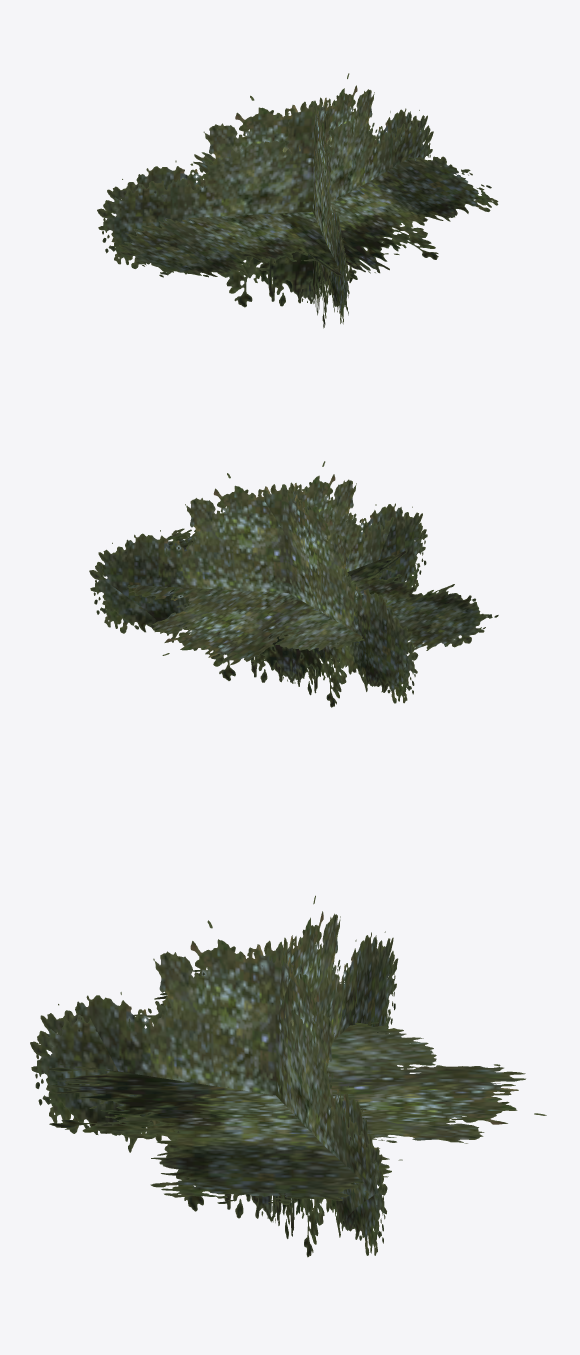
File: core_shrb_perzizole_l2.fbx
3 renders of one model, top to bottom at view 1: azimuth 30°, elevation 25°; view 2: azimuth 150°, elevation 25°; view 3: azimuth 270°, elevation 25°, orthographic. The views are drawn at different scales.
Parts seen in each view (by area): view 1: mesh_node; view 2: mesh_node; view 3: mesh_node.
Boxes of the visible parts, <box> form: mesh_node: <box>97,73,498,328</box>; mesh_node: <box>89,461,498,707</box>; mesh_node: <box>30,895,546,1257</box>.
Size of the model in its own units: 9.78 by 5.57 by 9.
Materials: 1 (1 with a texture image).
